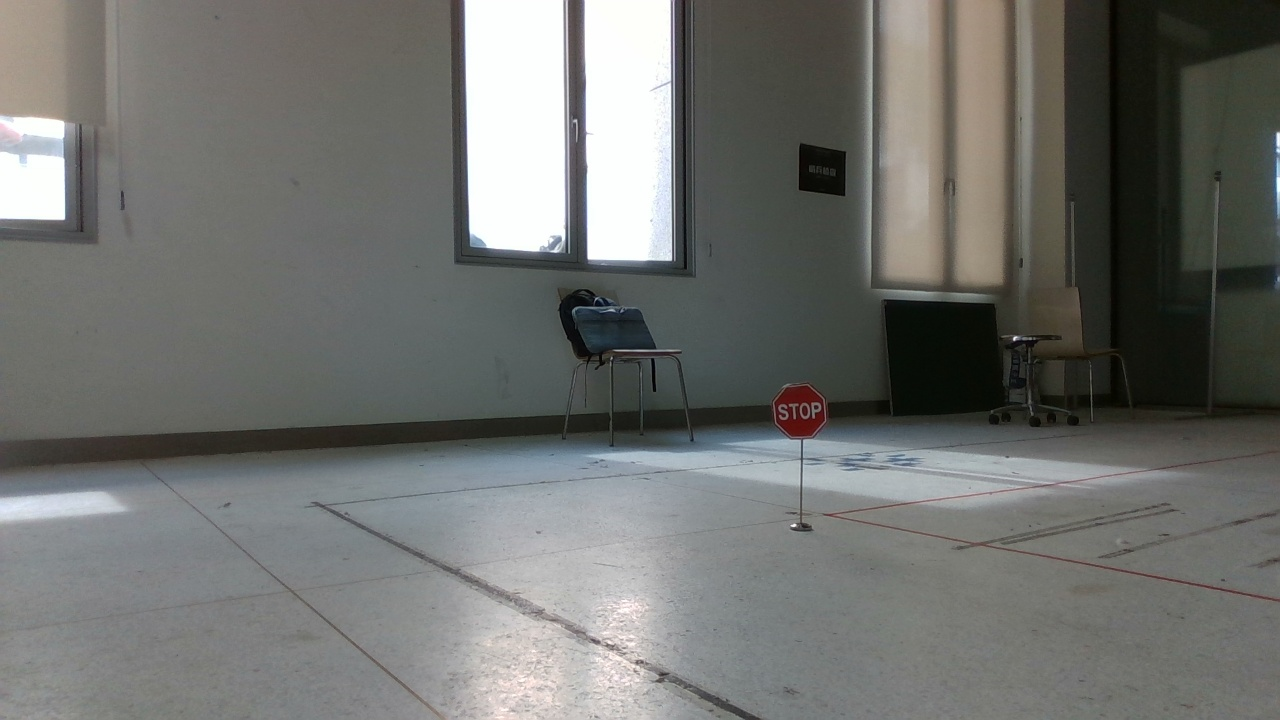stop_sign: (766, 380, 844, 458)
